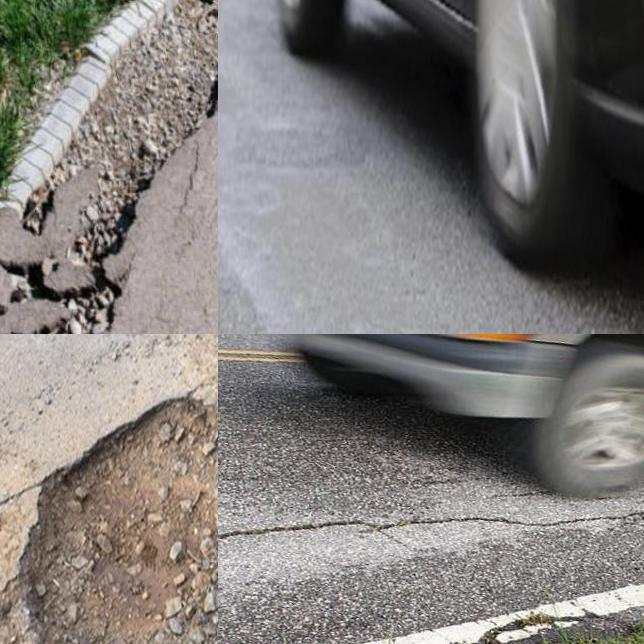Lubang: (26, 403, 218, 644)
Pinggir: (0, 0, 218, 334)
